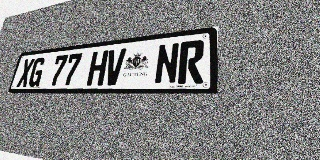7: (61, 53, 82, 86), (48, 55, 68, 87)
G: (27, 57, 46, 87)
H: (86, 50, 109, 86)
N: (154, 42, 180, 84)
R: (177, 39, 205, 84)
V: (103, 48, 126, 85)
X: (16, 58, 35, 87)
